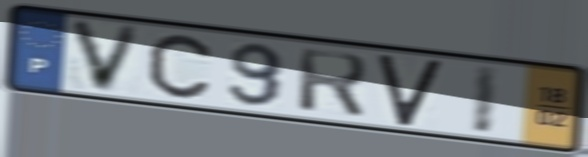9: (226, 41, 287, 109)
C: (145, 32, 215, 101)
I: (469, 62, 503, 137)
R: (295, 46, 371, 121)
V: (65, 16, 146, 96), (374, 53, 446, 129)
